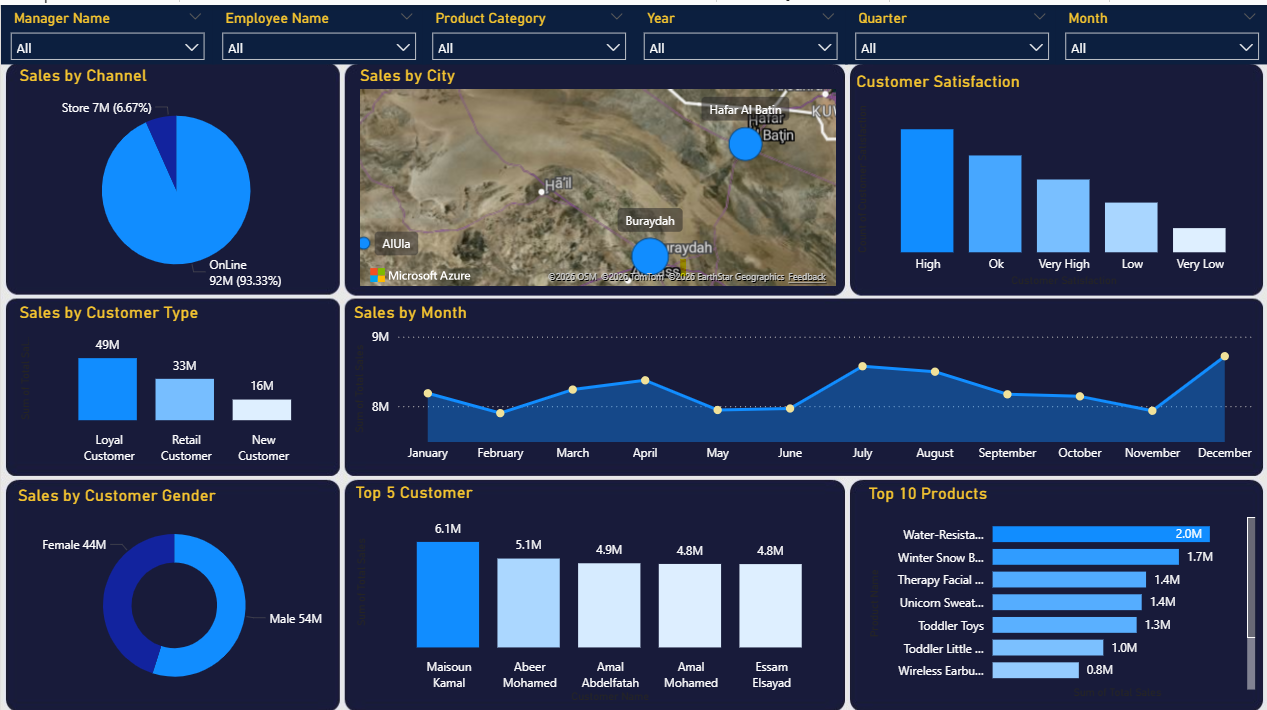

Layout of this report page (visuals, bound fields, positions):
{"tool":"powerbi","page":{"name":"Page 1","canvas":[1280,720],"ordinal":0},"visuals":[{"type":"donutChart","title":"Sales by Customer Gender","fields":{"Category":["Sales Data.Customer Gender"],"Y":["Sales Data.Total Sales"]},"box":[11.7,485,325,221.7],"z":0},{"type":"azureMap","title":"Sales by City","fields":{"Category":["Sales Data.City"],"Size":["Sales Data.Total Sales"]},"box":[356.7,60,490,228.3],"z":1000},{"type":"columnChart","title":"Customer Satisfaction","fields":{"Category":["Sales Data.Customer Satisfaction"],"Y":["Sales Data.Customer Satisfaction"]},"box":[858.3,66.7,411.7,221.7],"z":2000},{"type":"pieChart","title":"Sales by Channel","fields":{"Category":["Sales Data.Channel"],"Y":["Sales Data.Total Sales"]},"box":[13.5,60.8,325.8,231.1],"z":3000},{"type":"lineChart","title":"Sales by Month","fields":{"Category":["Sales Data.Invoice Date.Variation.Date Hierarchy.Month"],"Y":["Sales Data.Total Sales"]},"box":[351.7,300,920,170],"z":4000},{"type":"barChart","title":"Top 10 Products","fields":{"Y":["Sales Data.Total Sales"],"Category":["Sales Data.Product Name"]},"box":[870,483.3,400,221.7],"z":5000},{"type":"columnChart","title":"Sales by Customer Type","fields":{"Category":["Sales Data.Customer Type"],"Y":["Sales Data.Total Sales"]},"box":[13.3,300,318.3,170],"z":6000},{"type":"clusteredColumnChart","title":"Top 5 Customer ","fields":{"Category":["Sales Data.Customer Name"],"Y":["Sales Data.Total Sales"]},"box":[353.3,481.7,495,226.7],"z":7000},{"type":"slicer","fields":{"Values":["Sales Data.Manager Name"]},"box":[0,0,215,60],"z":8000},{"type":"slicer","fields":{"Values":["Sales Data.Employee Name"]},"box":[213,0,215,60],"z":9000},{"type":"slicer","fields":{"Values":["Sales Data.Product Category"]},"box":[426,0,215,60],"z":10000},{"type":"slicer","fields":{"Values":["Sales Data.Invoice Date.Variation.Date Hierarchy.Year"]},"box":[639,0,215,60],"z":11000},{"type":"slicer","fields":{"Values":["Sales Data.Invoice Date.Variation.Date Hierarchy.Quarter"]},"box":[852,0,215,60],"z":12000},{"type":"slicer","fields":{"Values":["Sales Data.Invoice Date.Variation.Date Hierarchy.Month"]},"box":[1065,0,215,60],"z":13000}]}

Visuals, with their boxes in screenshot pixels (x1, y1, x2, y2), scaled from the page's 1280x720 canvas onto the 1267x710 screenshot:
"Sales by Customer Gender" donutChart: bbox(12, 478, 333, 697)
"Sales by City" azureMap: bbox(353, 59, 838, 284)
"Customer Satisfaction" columnChart: bbox(850, 66, 1257, 284)
"Sales by Channel" pieChart: bbox(13, 60, 336, 288)
"Sales by Month" lineChart: bbox(348, 296, 1259, 463)
"Top 10 Products" barChart: bbox(861, 477, 1257, 695)
"Sales by Customer Type" columnChart: bbox(13, 296, 328, 463)
"Top 5 Customer " clusteredColumnChart: bbox(350, 475, 840, 699)
slicer - Sales Data.Manager Name: bbox(0, 0, 213, 59)
slicer - Sales Data.Employee Name: bbox(211, 0, 424, 59)
slicer - Sales Data.Product Category: bbox(422, 0, 634, 59)
slicer - Sales Data.Invoice Date.Variation.Date Hierarchy.Year: bbox(633, 0, 845, 59)
slicer - Sales Data.Invoice Date.Variation.Date Hierarchy.Quarter: bbox(843, 0, 1056, 59)
slicer - Sales Data.Invoice Date.Variation.Date Hierarchy.Month: bbox(1054, 0, 1266, 59)
